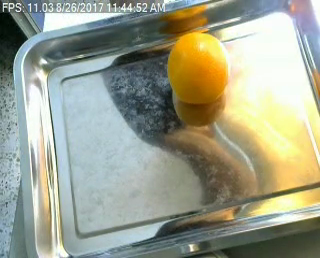Orange: (167, 31, 231, 104)
